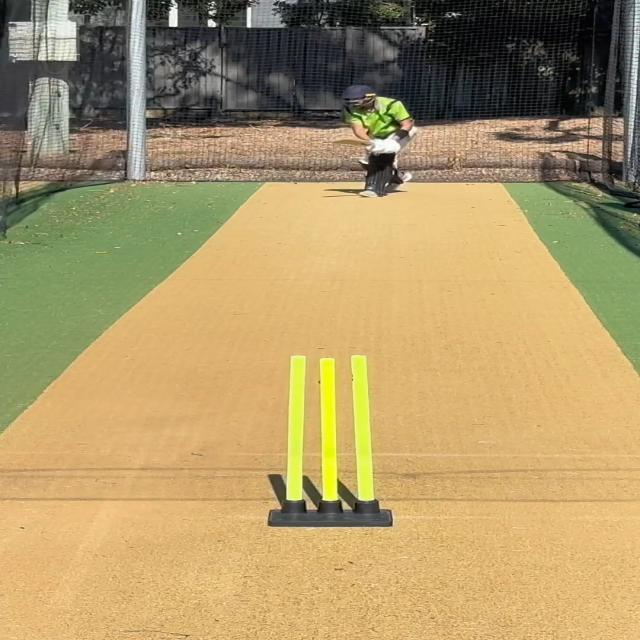stump: (268, 349, 391, 526)
